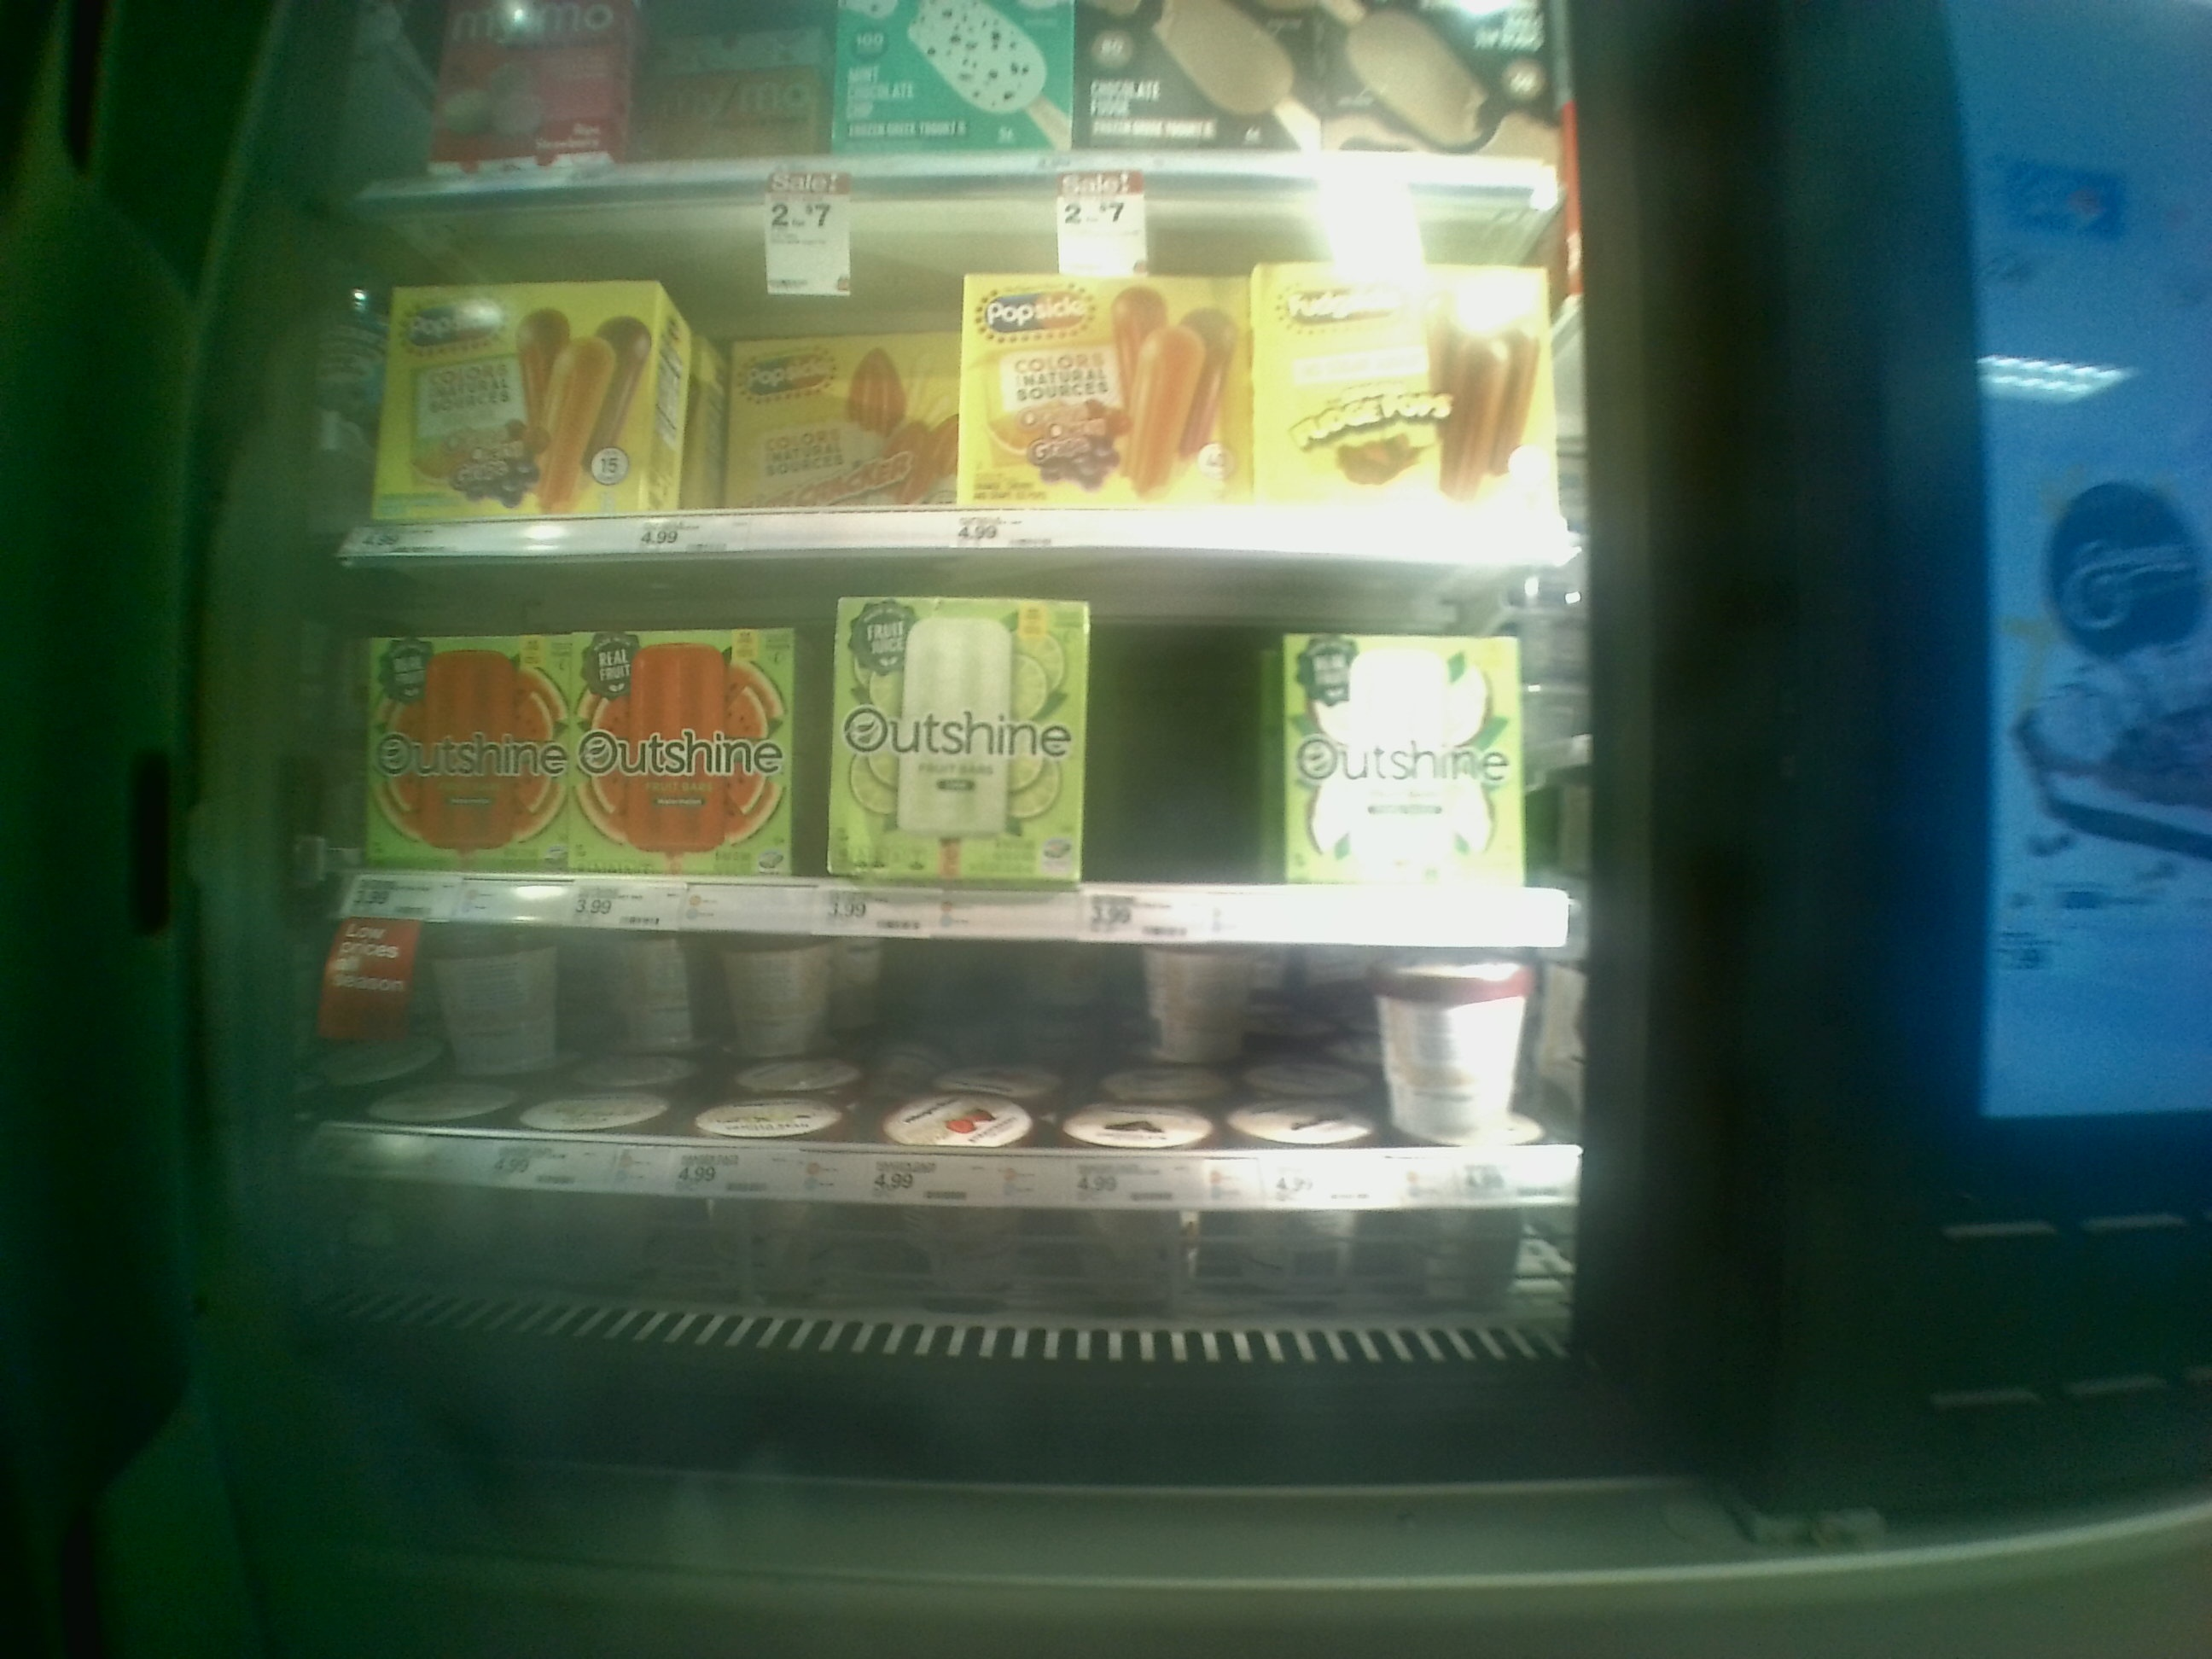ice-cream-shelf: (331, 556, 1606, 924), (350, 193, 1606, 558), (331, 924, 1599, 1202)
